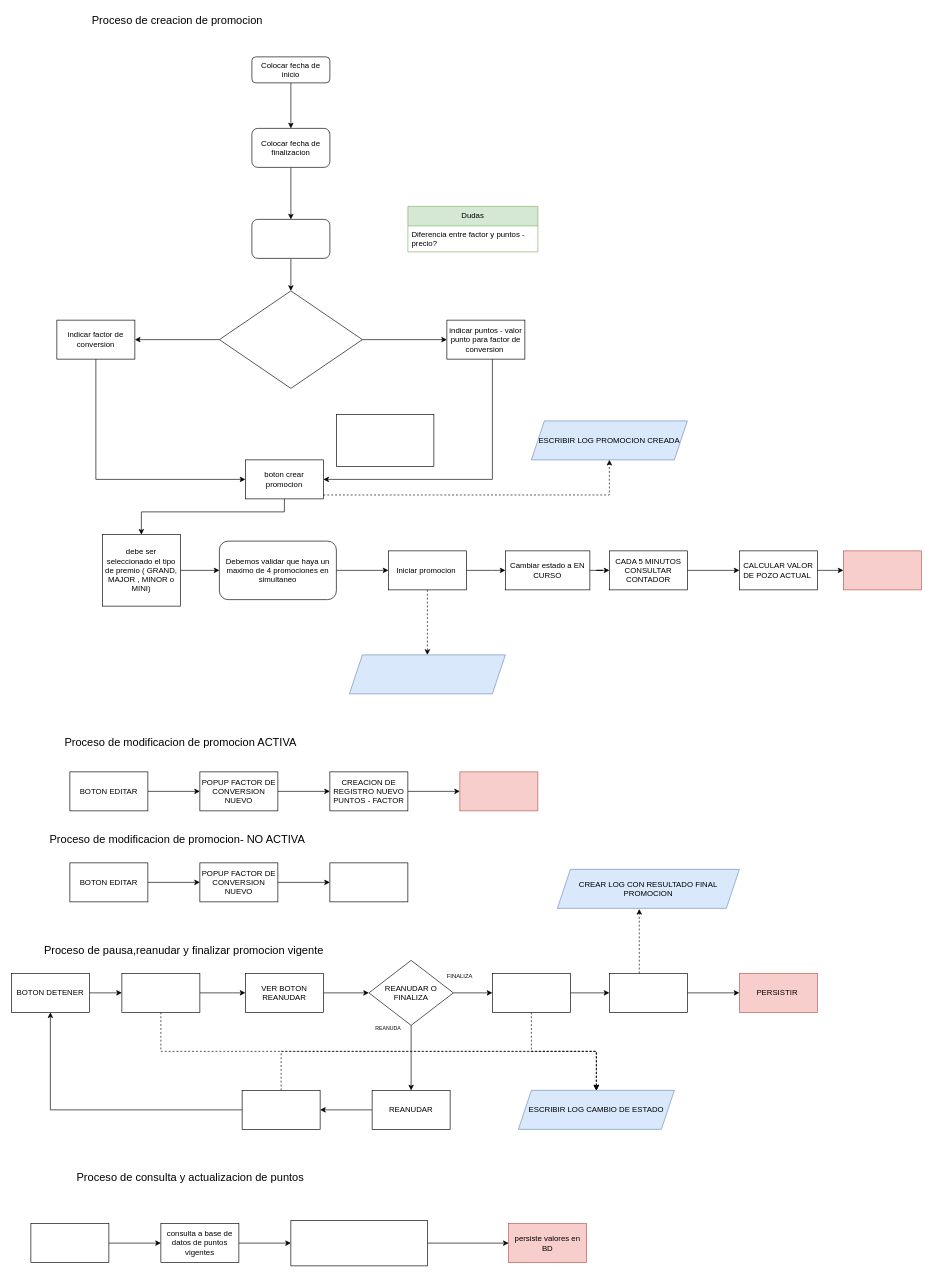
The diagram is 933 pixels wide and 1277 high, and some of its shapes have lost their labels. The shapes that lost their labels are listed below. From the top down, each one's box as (x1, y1, x2, y2) in pixels, then its label:
(251, 219, 330, 258): Seleccionar monto inicial del pozo
(219, 290, 362, 388): Seleccion boton radio factor de conversion o puntos y conversion
(336, 414, 434, 466): TODOS LOS CAMPOS SON REQUERIDOS PARA CREAR REGISTRO
(843, 550, 921, 590): PERSISTIR ESTADO DE LA PROMOCION
(349, 654, 505, 694): ESCRIBIR LOG PROMOCION INICIADA
(459, 771, 538, 811): PERSISTIR CAMBIOS
(329, 862, 408, 902): PERSISTIR PROMOCION EN BASE DE DATOS
(121, 973, 200, 1012): ESTADO PASA A DETENIDO
(492, 973, 570, 1012): PASA A ESTADO FINALIZADO
(609, 973, 687, 1012): CALCULO FINAL DEL POZO
(241, 1090, 320, 1129): ESTADO PASA A EN CURSO
(30, 1223, 109, 1263): Schedule process 1 por promocion o uno unico ?
(290, 1220, 427, 1266): Actualizar ultimo valor de puntos de cada promocion
